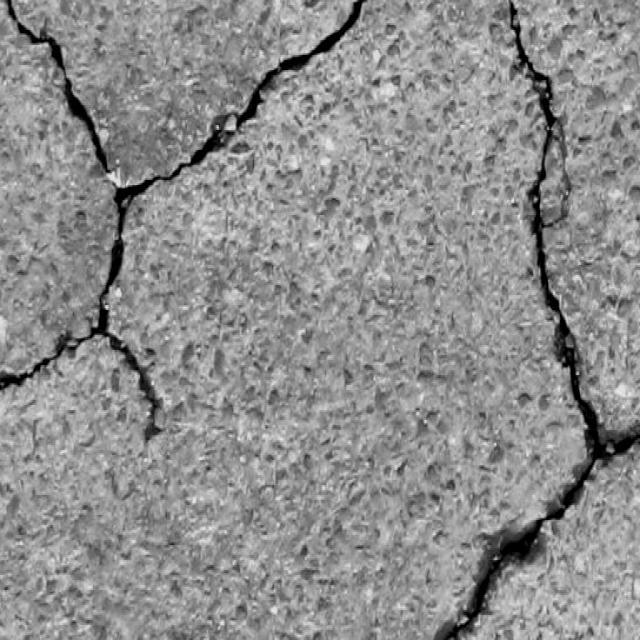SurfaceCrack: (385, 0, 640, 640)
